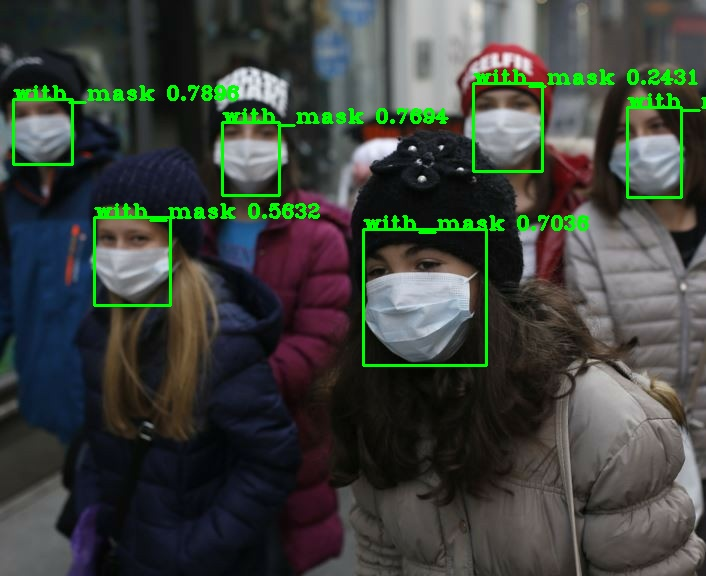with_mask: (355, 236, 503, 366), (82, 203, 186, 303), (458, 72, 546, 168), (206, 99, 292, 196), (605, 103, 690, 201), (1, 85, 79, 169)
